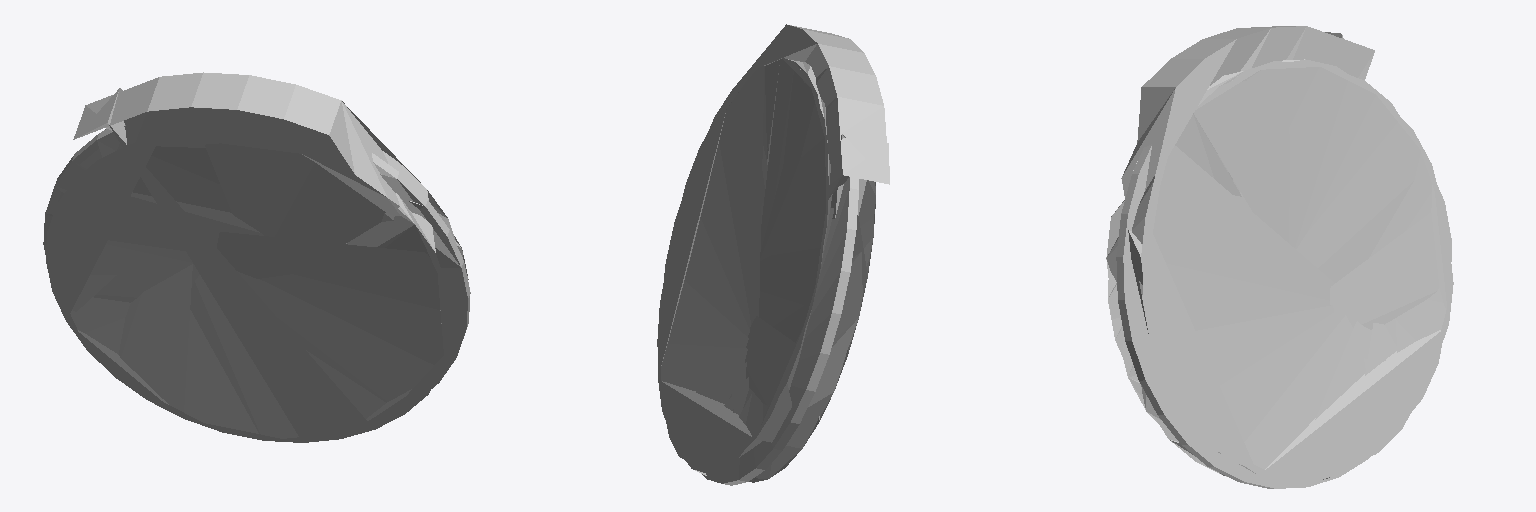
File: Magnifying glass.obj
The picture shows the model from 3 angles: view 1: azimuth 30°, elevation 25°; view 2: azimuth 150°, elevation 25°; view 3: azimuth 270°, elevation 25°; orthographic projection.
Visible parts, largest first — view 1: Cylinder007, Cylinder005, Cylinder008, Cylinder006; view 2: Cylinder007, Cylinder005, Cylinder006, Cylinder008; view 3: Cylinder007, Cylinder005, Cylinder006, Cylinder008.
Part boxes in pixels (bbox=[...]): Cylinder007: bbox=[43, 126, 461, 442]; Cylinder005: bbox=[46, 72, 468, 442]; Cylinder008: bbox=[43, 125, 470, 388]; Cylinder006: bbox=[342, 165, 454, 438]; Cylinder007: bbox=[661, 58, 875, 482]; Cylinder005: bbox=[657, 24, 889, 483]; Cylinder006: bbox=[658, 92, 811, 483]; Cylinder008: bbox=[706, 177, 858, 485]; Cylinder007: bbox=[1125, 59, 1442, 479]; Cylinder005: bbox=[1106, 26, 1453, 488]; Cylinder006: bbox=[1106, 146, 1451, 488]; Cylinder008: bbox=[1116, 144, 1365, 488].
Bounding box in the file's own units: 171383 × 218789 × 169189.